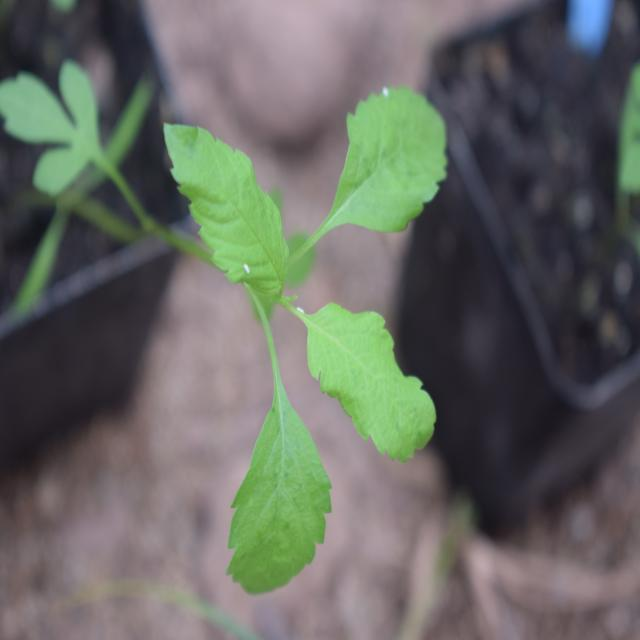Bidens pilosa: (149, 36, 450, 610)
